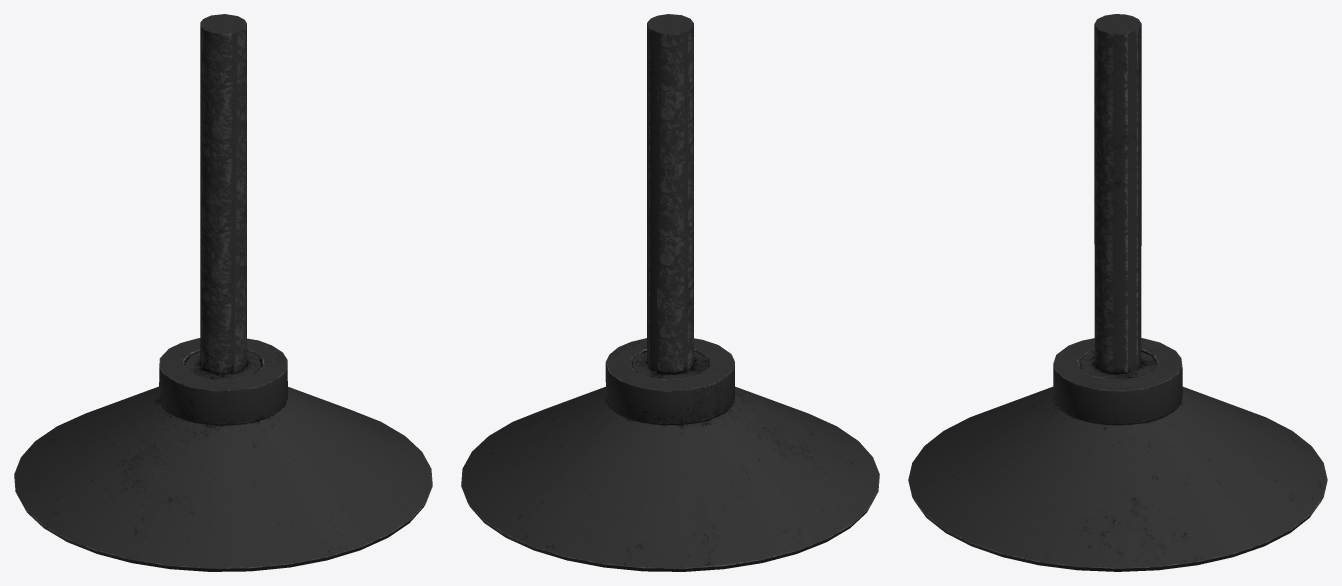
Rendered from lamp_ceiling_-_fnaf.glb.
3 views of the same model, side by side, from view 1: azimuth 30°, elevation 25°; view 2: azimuth 150°, elevation 25°; view 3: azimuth 270°, elevation 25° (orthographic).
Visible parts, largest first — view 1: Cylinder; view 2: Cylinder; view 3: Cylinder.
Boxes of the visible parts, box(x1,y1,x2,y2) form: Cylinder: box(14, 14, 432, 571); Cylinder: box(461, 14, 879, 571); Cylinder: box(908, 14, 1327, 571).
Bounding box in the file's own units: 649 × 796 × 649.
3 materials, 1 textured.
